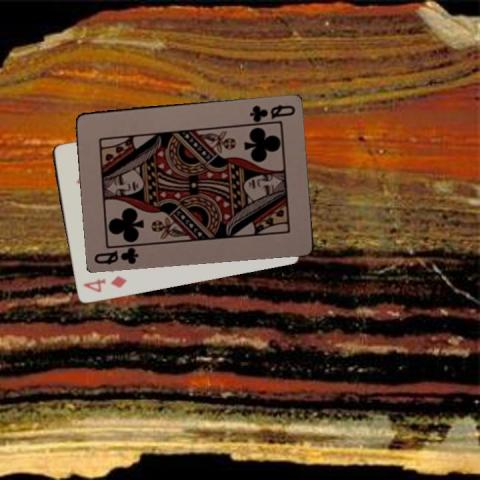4d: (79, 273, 128, 294)
Qc: (91, 244, 141, 266), (246, 101, 297, 122)
